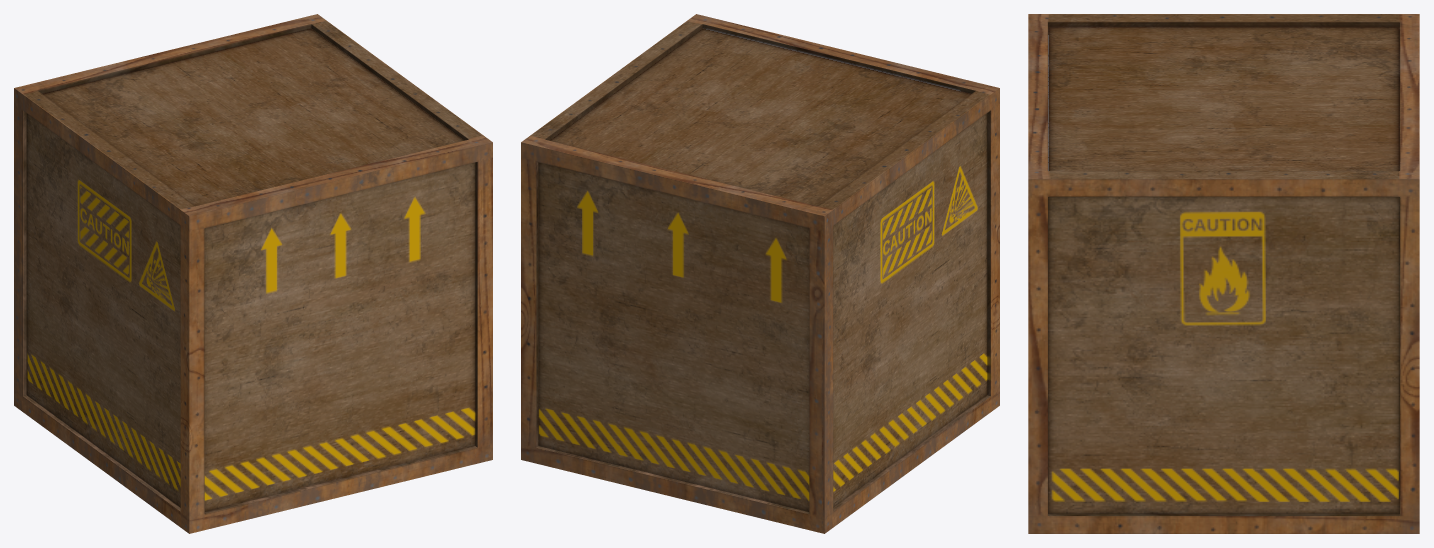
Rendered from SM_WoodenBoxProp.fbx.
The picture shows the model from 3 angles, left to right: view 1: azimuth 30°, elevation 25°; view 2: azimuth 150°, elevation 25°; view 3: azimuth 270°, elevation 25°; orthographic projection. The views are drawn at different scales.
Visible parts, largest first — view 1: SM_WoodenBoxProp; view 2: SM_WoodenBoxProp; view 3: SM_WoodenBoxProp.
Boxes of the visible parts, x1,y1,x2,y2 form: SM_WoodenBoxProp: [14, 14, 492, 533]; SM_WoodenBoxProp: [521, 14, 999, 533]; SM_WoodenBoxProp: [1028, 14, 1419, 533].
Size of the model in its own units: 200 by 200 by 200.
